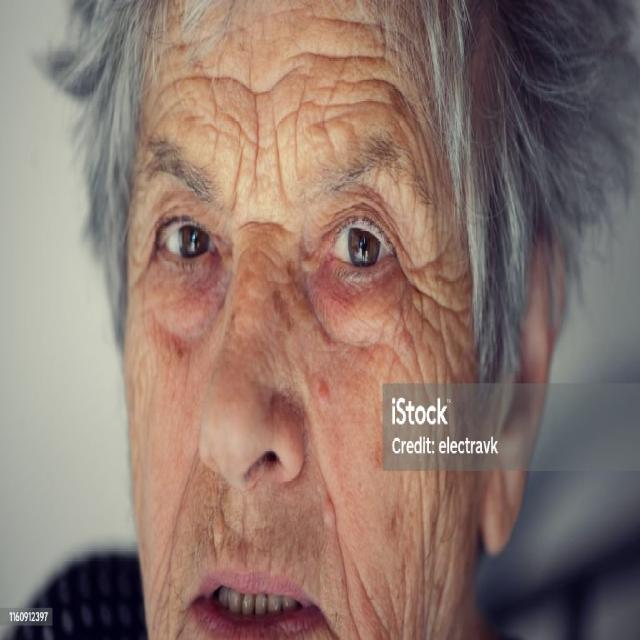Dry-Skin: (125, 343, 213, 569), (223, 303, 337, 456), (389, 420, 465, 618), (216, 40, 314, 184)
